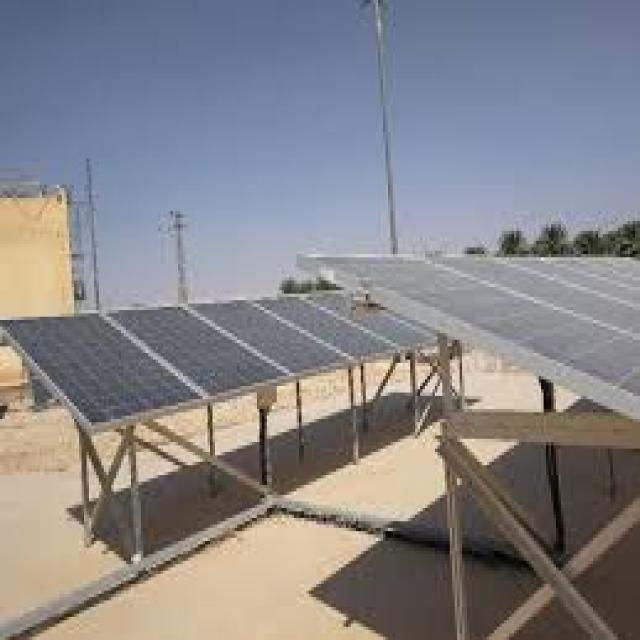dust-solar-panel: (0, 289, 435, 428), (310, 255, 640, 399)
